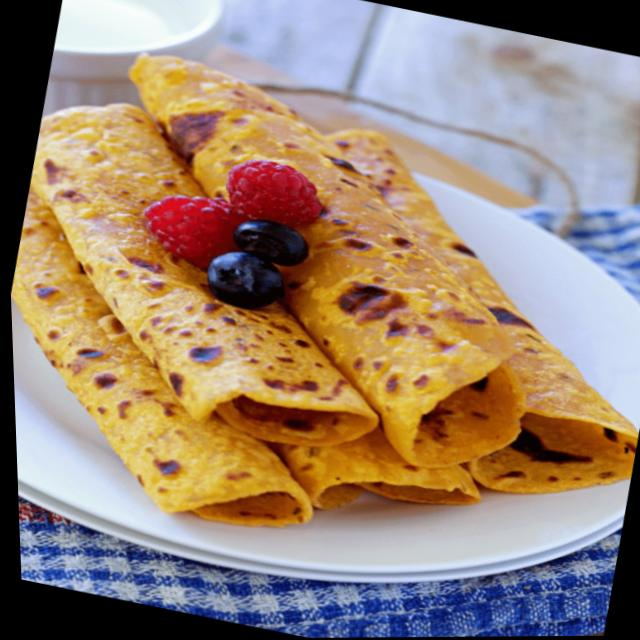CHAPATHI: (11, 49, 638, 526)
